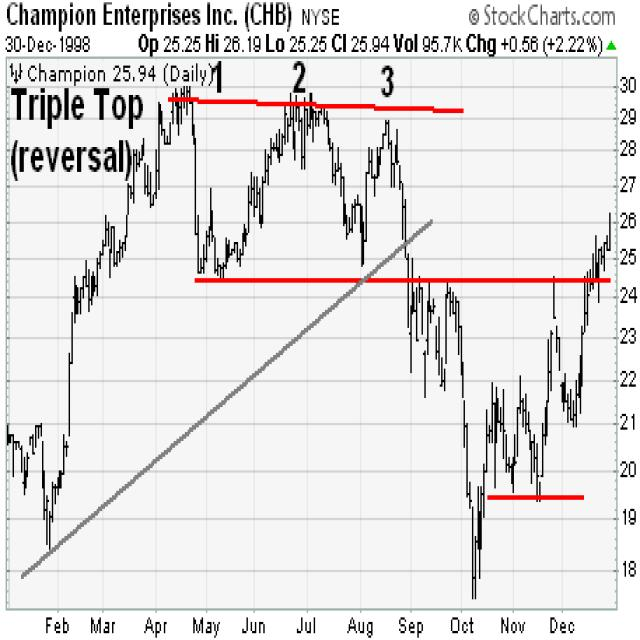Triple-Top: (146, 100, 424, 275)
